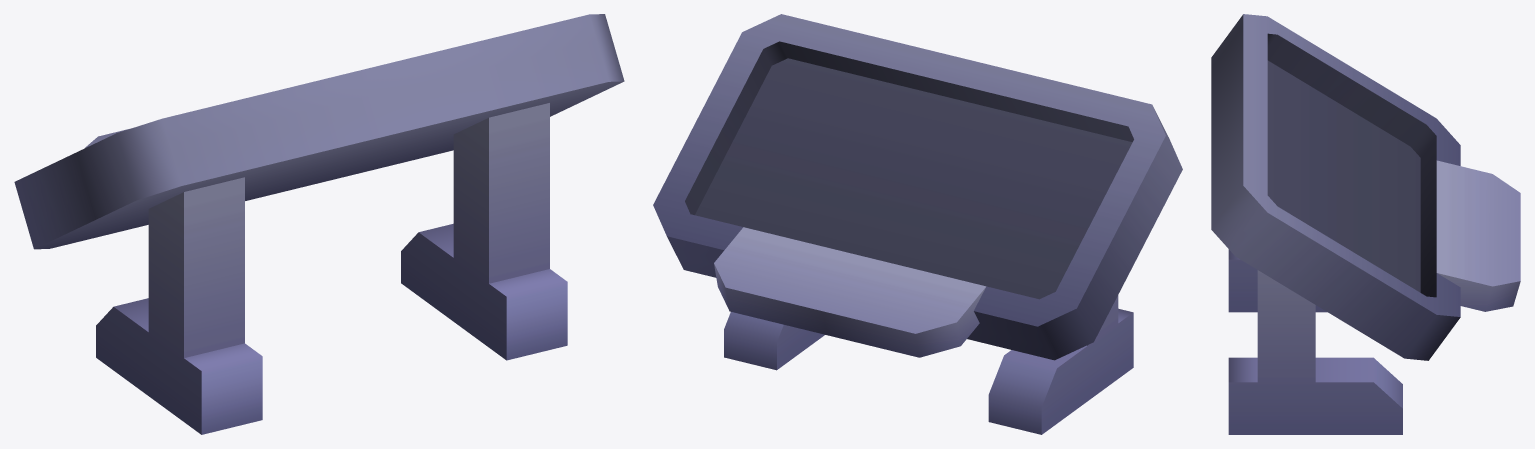
The model's file is kenney-factory-screen-panel-flat.glb.
3 views of the same model, side by side, from view 1: azimuth 30°, elevation 25°; view 2: azimuth 150°, elevation 25°; view 3: azimuth 270°, elevation 25° (orthographic). The views are drawn at different scales.
Visible parts, largest first — view 1: screen-panel-flat; view 2: screen-panel-flat; view 3: screen-panel-flat.
Part boxes in pixels (<box>): screen-panel-flat: <box>14,14,624,434</box>; screen-panel-flat: <box>653,14,1182,434</box>; screen-panel-flat: <box>1211,14,1520,434</box>.
Bounding box in the file's own units: 1.2 × 0.7453 × 0.7998.
Materials: 1 (1 with a texture image).
